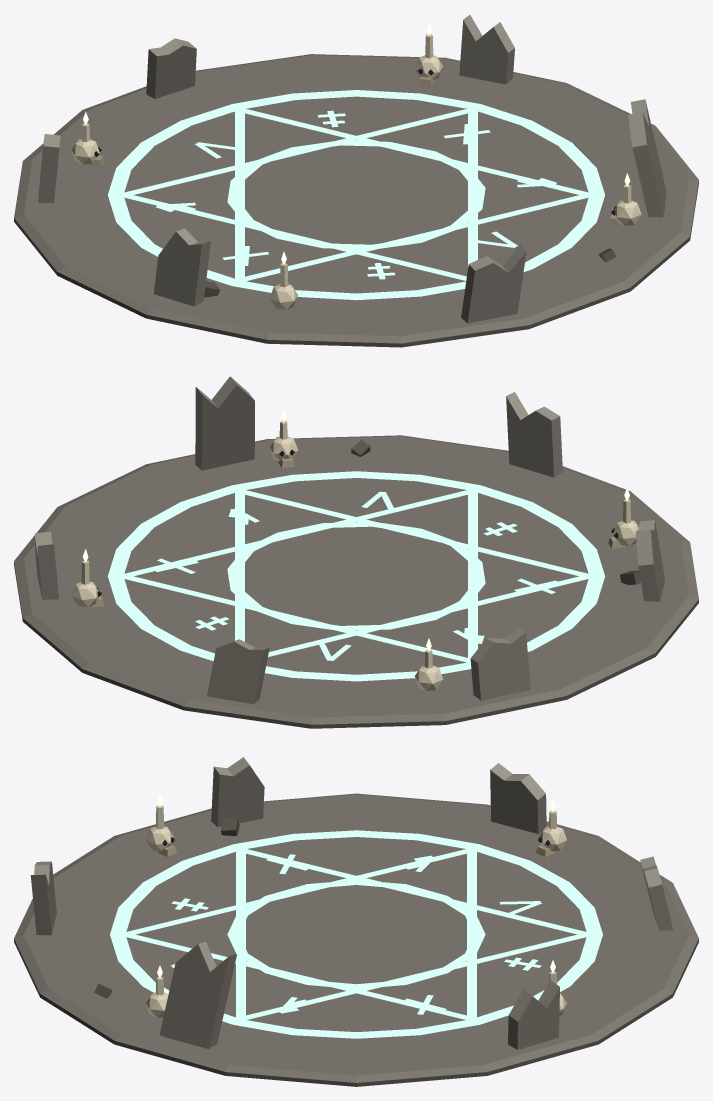
File: Undead_Ritualkreis.fbx
3 renders of one model, top to bottom at view 1: azimuth 30°, elevation 25°; view 2: azimuth 150°, elevation 25°; view 3: azimuth 270°, elevation 25°, orthographic.
Parts seen in each view (by area): view 1: Ritual_Base, Ritual_Runes, Ritual_Candle_2, Ritual_Candle_1, Ritual_Candle_3, Ritual_Candle_4; view 2: Ritual_Base, Ritual_Runes, Ritual_Candle_2, Ritual_Candle_4, Ritual_Candle_3, Ritual_Candle_1; view 3: Ritual_Base, Ritual_Runes, Ritual_Candle_4, Ritual_Candle_1, Ritual_Candle_3.
Boxes of the visible parts, x1=… form: Ritual_Base: x1=14, y1=15, x2=698, y2=347; Ritual_Runes: x1=108, y1=90, x2=604, y2=300; Ritual_Candle_2: x1=414, y1=22, x2=443, y2=86; Ritual_Candle_1: x1=71, y1=111, x2=104, y2=167; Ritual_Candle_3: x1=608, y1=173, x2=641, y2=226; Ritual_Candle_4: x1=269, y1=251, x2=297, y2=309; Ritual_Base: x1=14, y1=376, x2=698, y2=728; Ritual_Runes: x1=107, y1=471, x2=605, y2=681; Ritual_Candle_2: x1=71, y1=549, x2=104, y2=607; Ritual_Candle_4: x1=608, y1=487, x2=639, y2=548; Ritual_Candle_3: x1=269, y1=409, x2=297, y2=467; Ritual_Candle_1: x1=414, y1=638, x2=443, y2=690; Ritual_Base: x1=14, y1=757, x2=698, y2=1086; Ritual_Runes: x1=110, y1=830, x2=602, y2=1038; Ritual_Candle_4: x1=146, y1=794, x2=176, y2=856; Ritual_Candle_1: x1=536, y1=799, x2=566, y2=856; Ritual_Candle_3: x1=146, y1=965, x2=168, y2=1017.
Size of the model in its own units: 3.5 by 0.5572 by 3.5.
